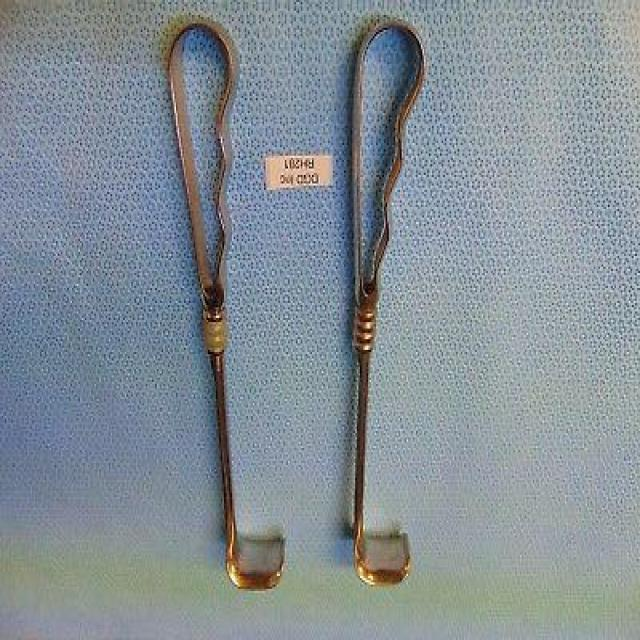Richardson: (160, 11, 291, 602), (339, 12, 427, 598)
